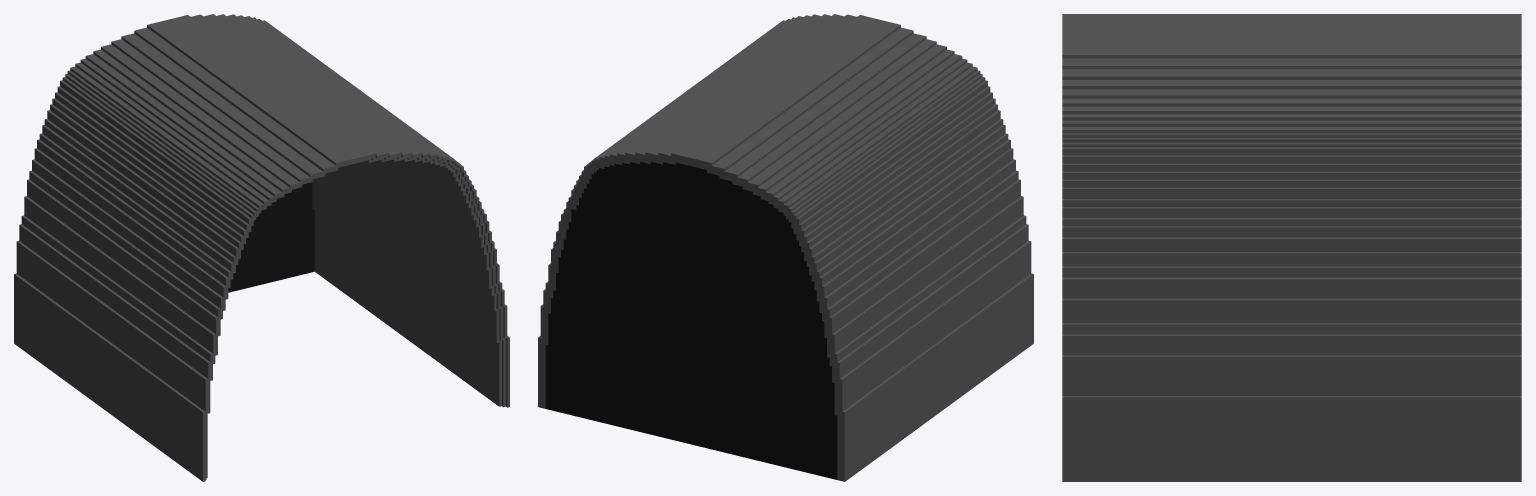
File: tunnel.gltf
3 renders of one model, left to right at view 1: azimuth 30°, elevation 25°; view 2: azimuth 150°, elevation 25°; view 3: azimuth 270°, elevation 25°, orthographic. The views are drawn at different scales.
Visible parts, largest first — view 1: Layer.2; view 2: Layer.2; view 3: Layer.2.
Boxes of the visible parts, left/top/right/bottom form: Layer.2: left=14, top=14, right=509, bottom=481; Layer.2: left=538, top=14, right=1033, bottom=481; Layer.2: left=1062, top=14, right=1521, bottom=481.
Size of the model in its own units: 120 by 107 by 128.
1 material, 1 textured.
